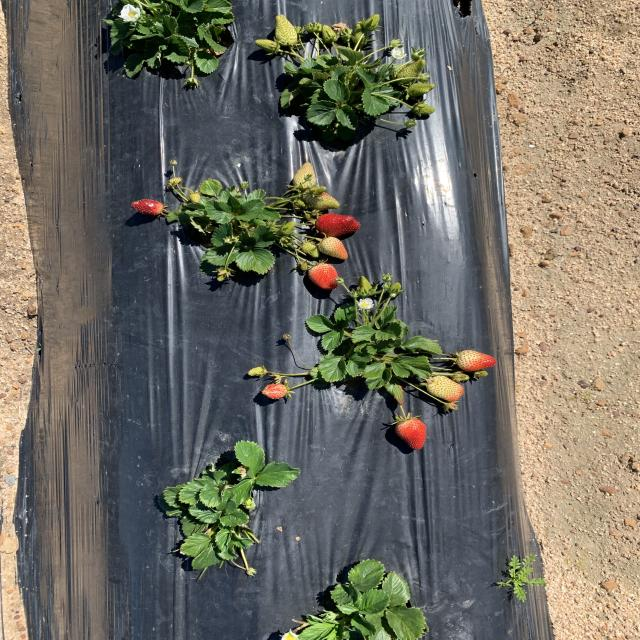unripe: (310, 210, 364, 240), (397, 420, 428, 450), (308, 265, 340, 290), (126, 198, 170, 215)
